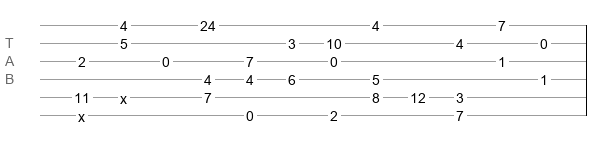0: (162, 54, 170, 64), (246, 108, 254, 118), (330, 54, 338, 64), (540, 36, 548, 46)
1: (498, 54, 506, 64), (540, 72, 548, 82)
10: (326, 36, 342, 46)
11: (74, 90, 90, 100)
12: (410, 90, 426, 100)
2: (78, 54, 86, 64), (330, 108, 338, 118)
24: (200, 18, 216, 28)
3: (288, 36, 296, 46), (456, 90, 464, 100)
4: (120, 18, 128, 28), (204, 72, 212, 82), (246, 72, 254, 82), (372, 18, 380, 28), (456, 36, 464, 46)
5: (120, 36, 128, 46), (372, 72, 380, 82)
6: (288, 72, 296, 82)
7: (204, 90, 212, 100), (246, 54, 254, 64), (456, 108, 464, 118), (498, 18, 506, 28)
8: (372, 90, 380, 100)
x: (78, 109, 85, 117), (120, 91, 127, 99)
